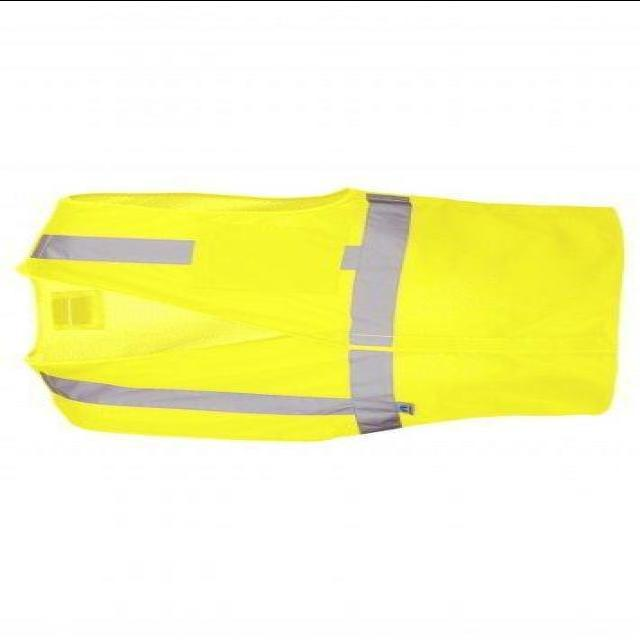jacket: (1, 187, 627, 452)
